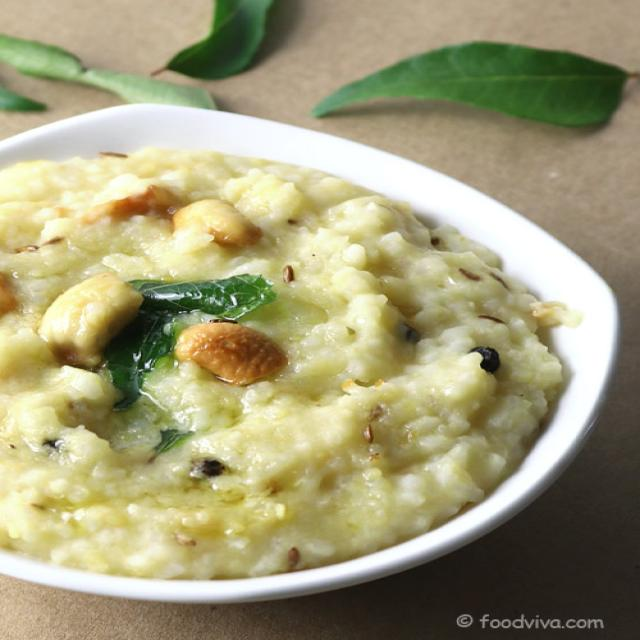khara pongal: (0, 126, 591, 597)
